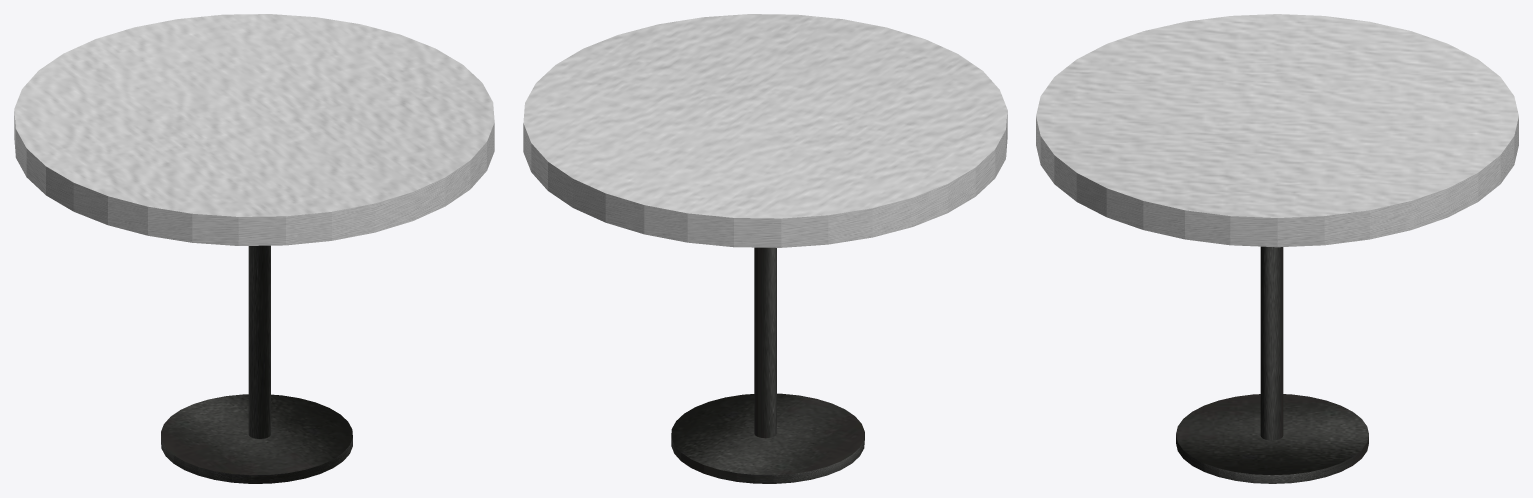
Rendered from shortTable.obj.
The picture shows the model from 3 angles, left to right: view 1: azimuth 30°, elevation 25°; view 2: azimuth 150°, elevation 25°; view 3: azimuth 270°, elevation 25°; orthographic projection.
Visible parts, largest first — view 1: Cylinder.003_Material.002, Cylinder.003_Material.001; view 2: Cylinder.003_Material.002, Cylinder.003_Material.001; view 3: Cylinder.003_Material.002, Cylinder.003_Material.001.
Part boxes in pixels (box(x1,y1,x2,y2)): Cylinder.003_Material.002: box(14, 14, 494, 245); Cylinder.003_Material.001: box(161, 245, 352, 483); Cylinder.003_Material.002: box(523, 14, 1007, 247); Cylinder.003_Material.001: box(671, 247, 864, 483); Cylinder.003_Material.002: box(1036, 14, 1518, 247); Cylinder.003_Material.001: box(1176, 246, 1368, 483).
Size of the model in its own units: 3 by 2.24 by 3.
